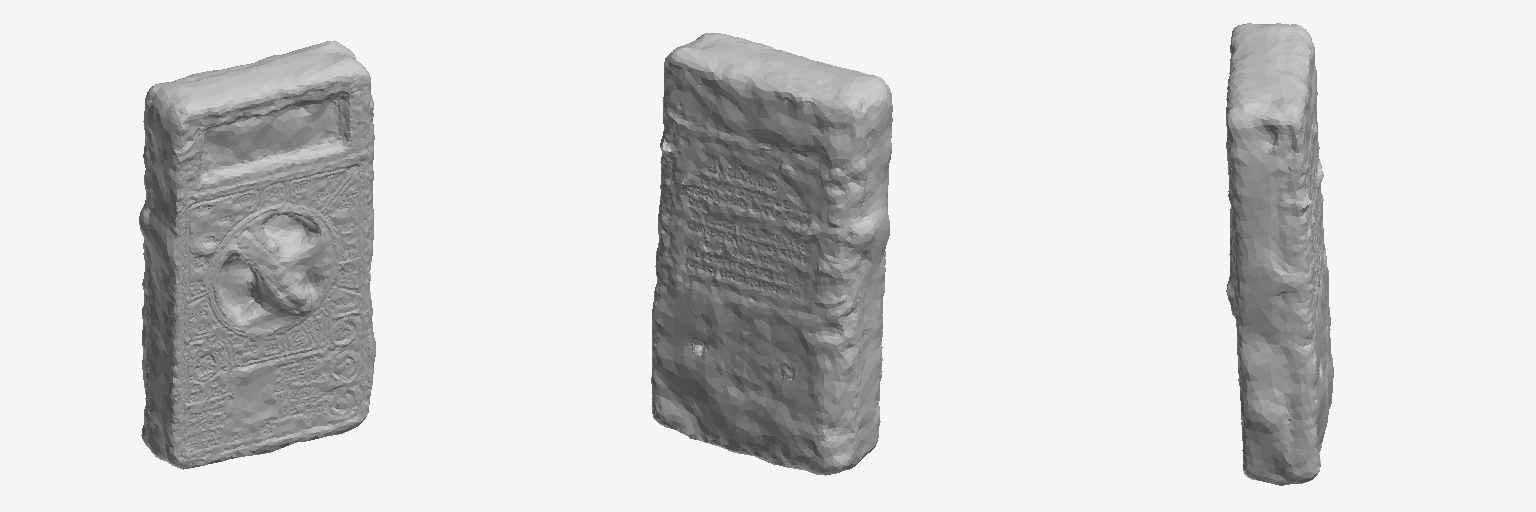
Rendered from multimeter.obj.
The picture shows the model from 3 angles: view 1: azimuth 30°, elevation 25°; view 2: azimuth 150°, elevation 25°; view 3: azimuth 270°, elevation 25°; orthographic projection.
Bounding box in the file's own units: 0.078 × 0.1305 × 0.0334.